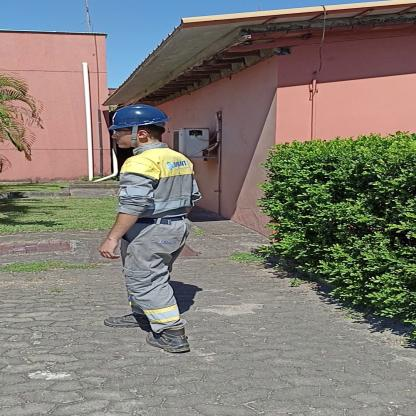Capacete: (106, 103, 164, 126)
